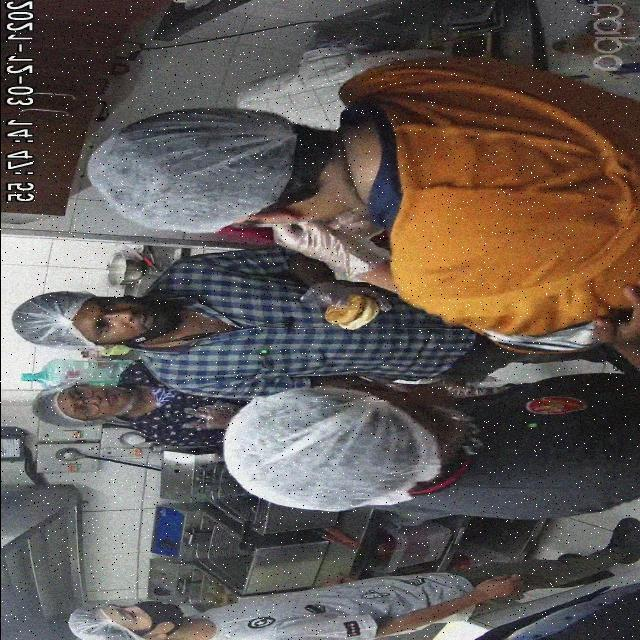apron: (272, 218, 384, 278), (177, 398, 230, 431)
gloves: (90, 102, 286, 226), (229, 389, 410, 517), (13, 292, 77, 350), (70, 603, 124, 640), (32, 384, 68, 426)
mask: (132, 602, 184, 630)
no_apron: (474, 572, 534, 606)
no_hairnet: (118, 300, 162, 336), (92, 389, 129, 412)
